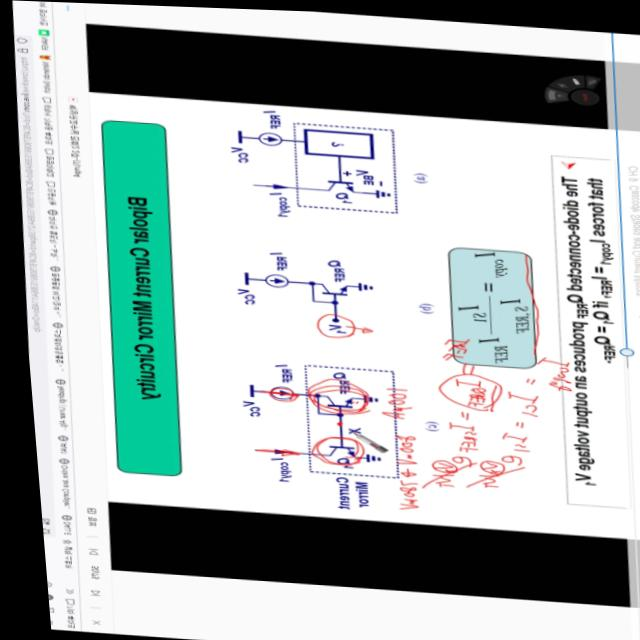panseo: (408, 330, 576, 500), (359, 372, 420, 511)
